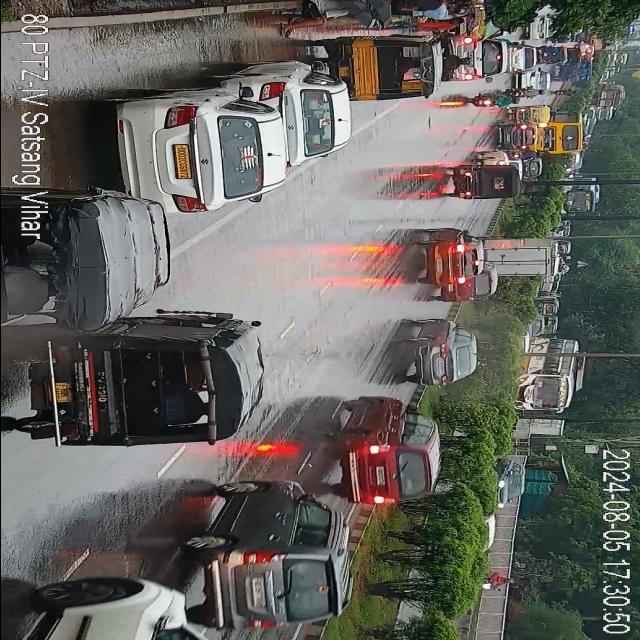2-wheelers: (470, 91, 520, 106), (482, 572, 518, 592)
auto: (19, 316, 270, 454), (326, 37, 436, 103), (452, 164, 518, 202), (510, 104, 550, 125), (536, 46, 568, 66), (534, 300, 556, 314), (557, 241, 569, 255)
bus: (506, 339, 580, 415), (533, 109, 585, 154), (555, 177, 599, 213)
car: (190, 476, 352, 634), (110, 88, 275, 208), (230, 55, 354, 163), (22, 580, 234, 640), (334, 399, 444, 504), (392, 314, 490, 389), (409, 225, 487, 283), (442, 32, 508, 84), (432, 270, 497, 302), (478, 150, 518, 184), (494, 120, 537, 148), (500, 459, 522, 509), (516, 16, 556, 42), (509, 42, 536, 76), (514, 70, 552, 94), (520, 157, 546, 182)
pedestrian: (272, 0, 379, 32), (391, 18, 472, 30), (400, 7, 480, 17), (393, 0, 464, 11)
truck: (483, 235, 557, 279), (557, 60, 593, 82), (592, 85, 624, 108)
